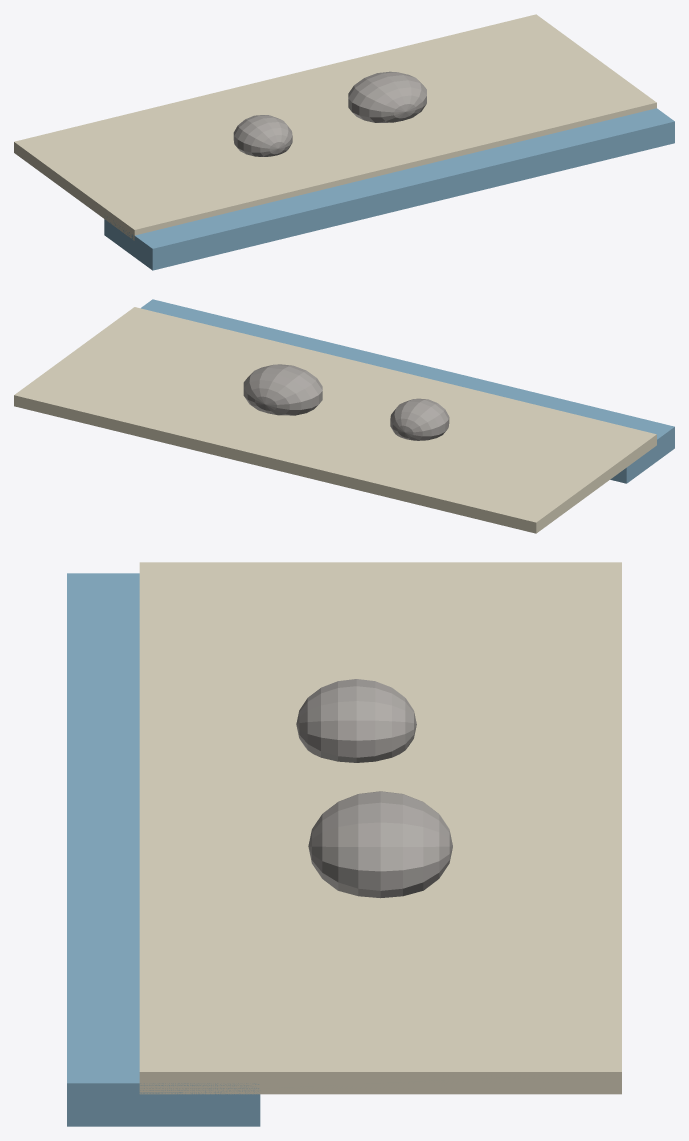
The model's file is erosion_break.glb.
3 views of the same model, one above another, from view 1: azimuth 30°, elevation 25°; view 2: azimuth 150°, elevation 25°; view 3: azimuth 270°, elevation 25° (orthographic). The views are drawn at different scales.
Visible parts, largest first — view 1: shore, water, rock1, rock2; view 2: shore, water, rock1, rock2; view 3: shore, water, rock1, rock2.
Boxes of the visible parts, x1,y1,x2,y2 form: shore: (14, 14, 656, 240); water: (104, 108, 674, 270); rock1: (348, 71, 426, 122); rock2: (233, 115, 292, 156); shore: (14, 307, 656, 533); water: (141, 299, 674, 483); rock1: (243, 364, 322, 415); rock2: (390, 398, 449, 440); shore: (139, 562, 621, 1094); water: (67, 573, 260, 1126); rock1: (308, 791, 452, 898); rock2: (296, 679, 416, 762).
Size of the model in its own units: 10 by 1.1 by 4.6.
